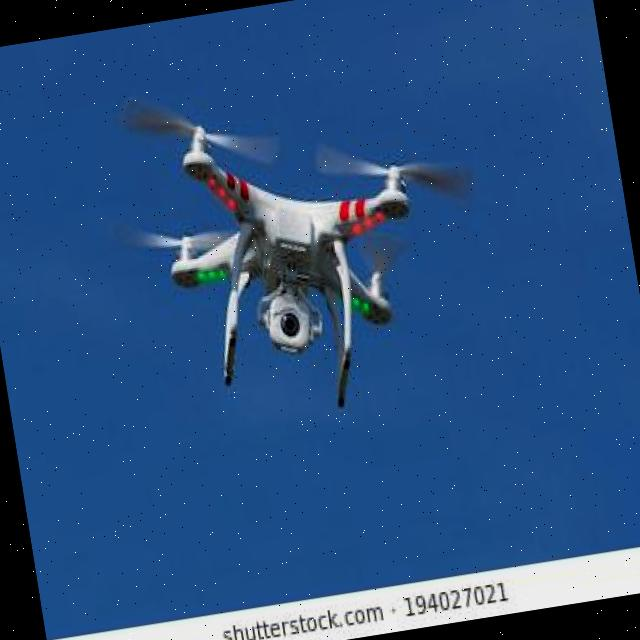drone: (68, 24, 522, 458)
